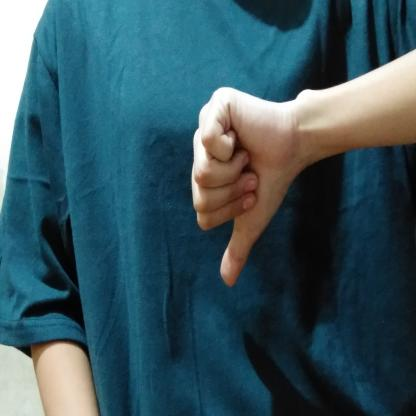no: (181, 80, 326, 296)
